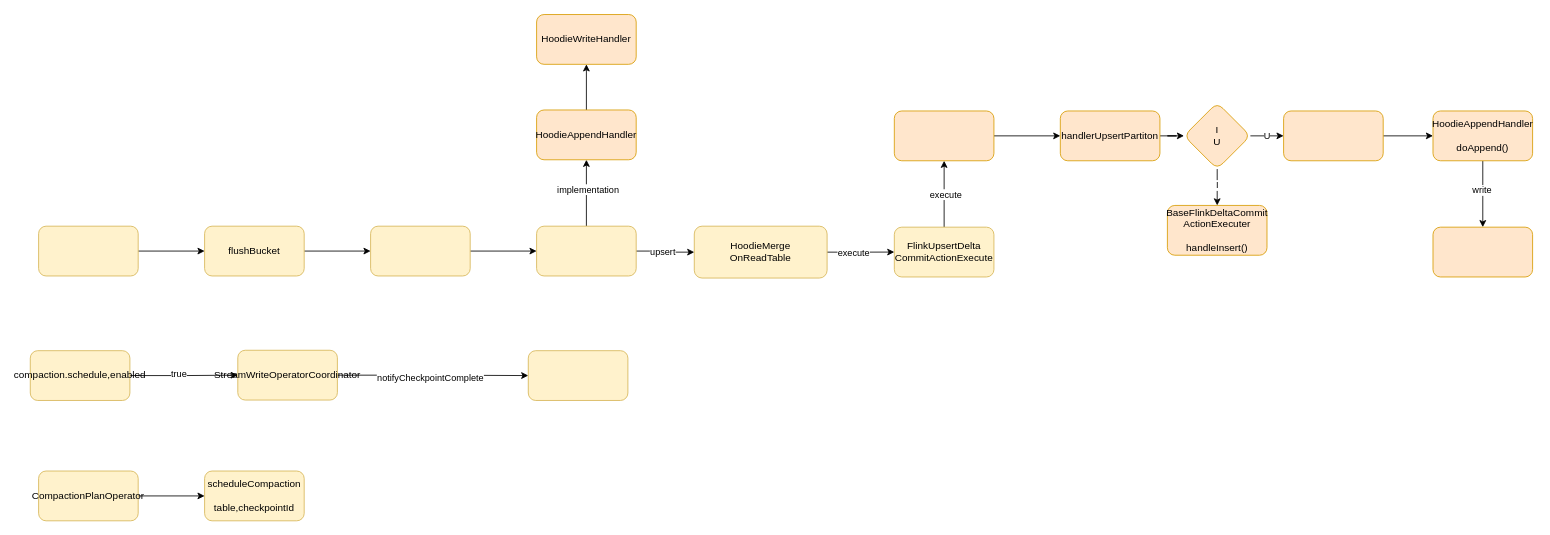
Some shapes in this 1550 by 535 pixel diagram are drawn without their labels. The shapes that lost their labels are listed below. From the top down, each one's box as (x1, y1, x2, y2) in pixels, then its label:
(893, 110, 994, 161): BaseFlinkCommit ActionExecute
(1283, 110, 1383, 161): BaseFlinkDeltaCommit ActionExecuter handleUpdate()
(38, 225, 138, 276): StreamWriteFunction
(370, 225, 470, 276): HoodieFlinkWriteClient upsert
(536, 225, 636, 276): FlinkAppendHandler fileId recordItr
(1432, 226, 1533, 277): HoodieLogFormatWriter
(527, 350, 628, 400): CompactionUtil scheduleCompaction
